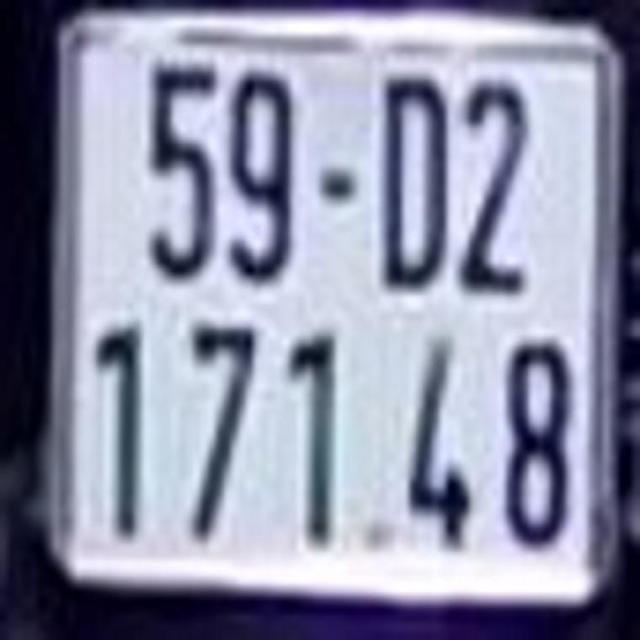1: (287, 325, 337, 546), (93, 326, 143, 542)
2: (461, 74, 526, 296)
4: (411, 333, 472, 554)
5: (145, 59, 219, 279)
7: (187, 319, 258, 546)
8: (503, 334, 570, 544)
9: (222, 64, 292, 282)
D: (382, 74, 448, 296)
